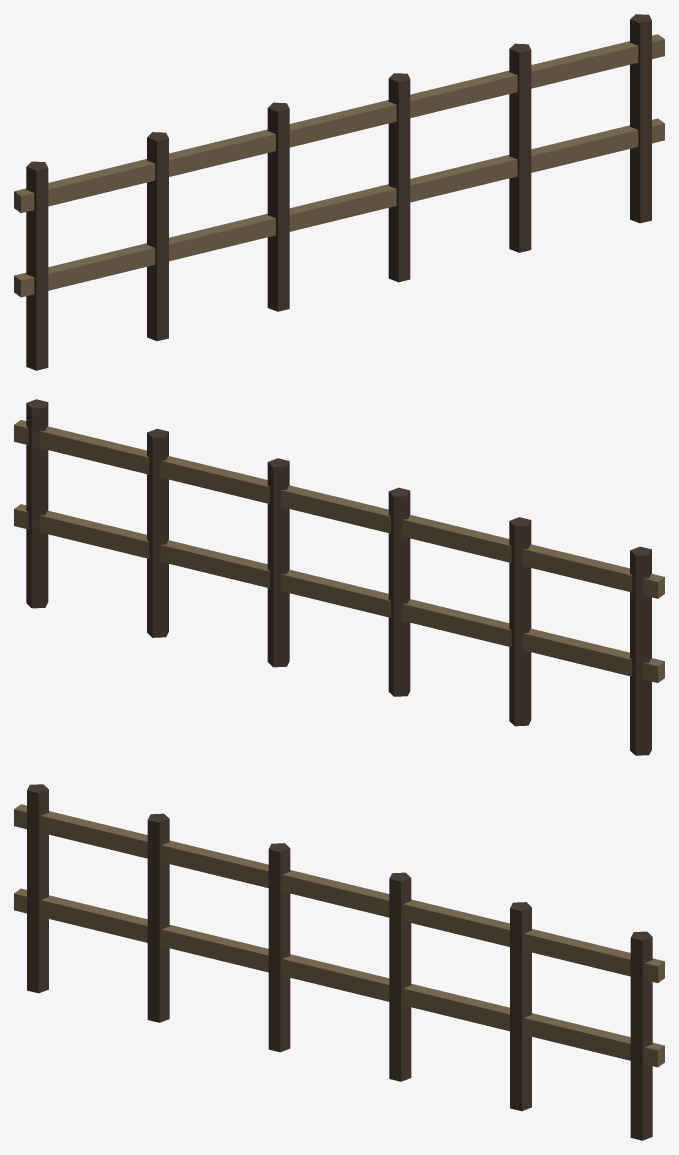
The model's file is fence.glb.
3 views of the same model, one above another, from view 1: azimuth 30°, elevation 25°; view 2: azimuth 150°, elevation 25°; view 3: azimuth 330°, elevation 25° (orthographic).
Parts seen in each view (by area): view 1: fence; view 2: fence; view 3: fence.
Boxes of the visible parts, bbox=[...] form: fence: bbox=[14, 14, 664, 370]; fence: bbox=[14, 399, 664, 755]; fence: bbox=[14, 784, 664, 1140].
Size of the model in its own units: 3.2 by 0.95 by 0.0905.
